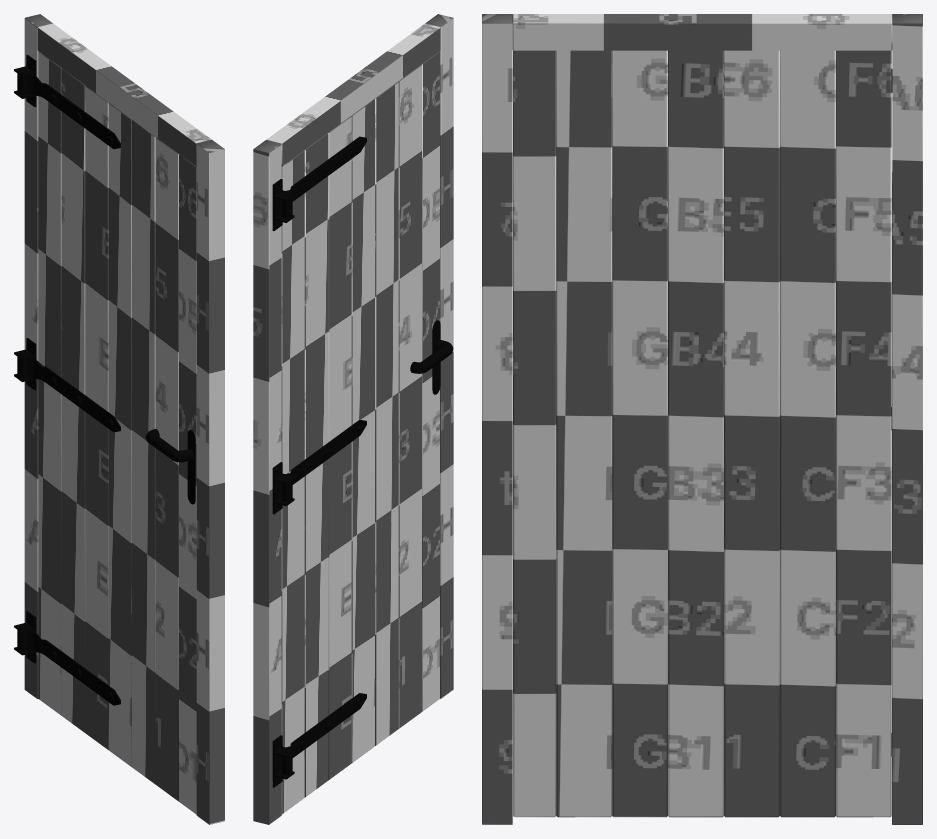
File: door_single.glb
3 renders of one model, left to right at view 1: azimuth 30°, elevation 25°; view 2: azimuth 150°, elevation 25°; view 3: azimuth 270°, elevation 25°, orthographic. The views are drawn at different scales.
Visible parts, largest first — view 1: door_wood, door_hingles; view 2: door_wood, door_hingles; view 3: door_wood.
Boxes of the visible parts, x1,y1,x2,y2 form: door_wood: [24, 14, 224, 824]; door_hingles: [14, 54, 195, 705]; door_wood: [253, 14, 453, 824]; door_hingles: [272, 136, 453, 787]; door_wood: [482, 14, 922, 824].
Bounding box in the file's own units: 0.0108 × 0.2012 × 0.1002.
Materials: 2 (1 with a texture image).
